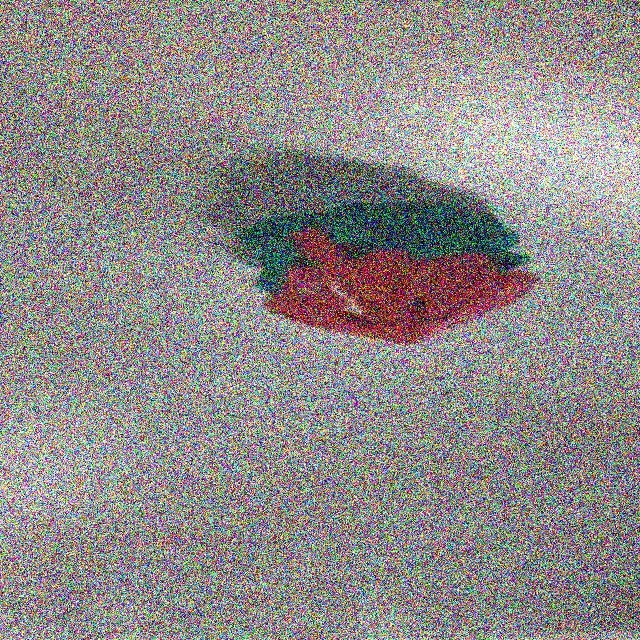House: (229, 202, 539, 346)
